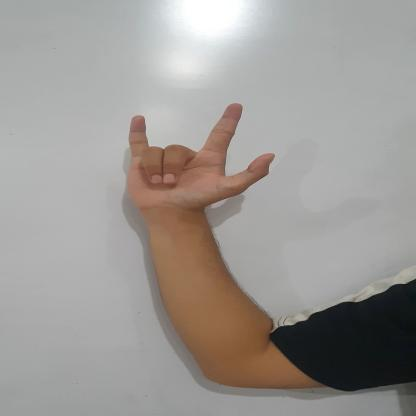ILoveYou: (104, 100, 289, 231)
